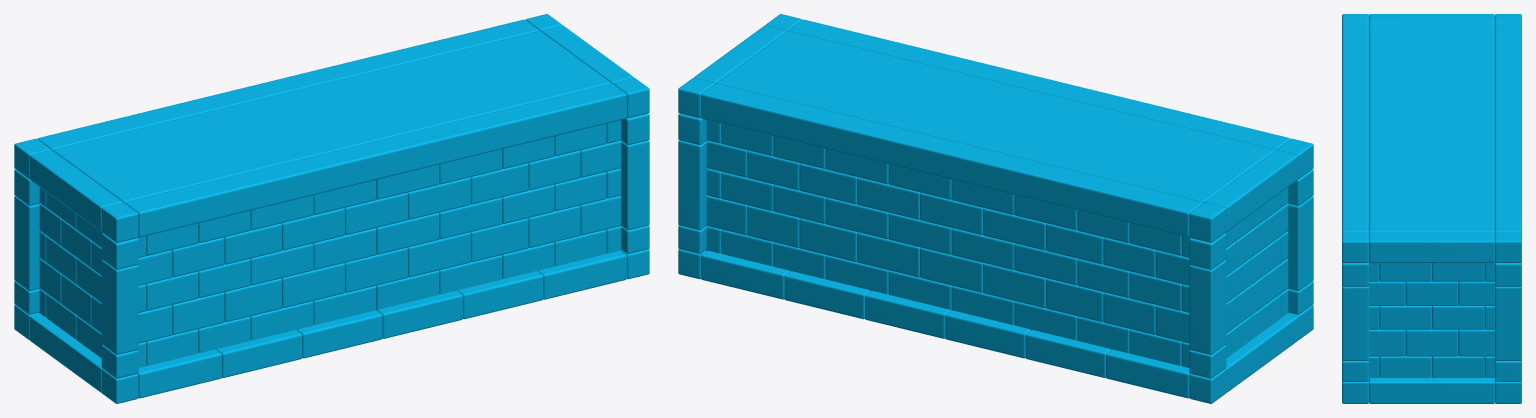
Rendered from SM_Stone_Body_05.fbx.
3 views of the same model, side by side, from view 1: azimuth 30°, elevation 25°; view 2: azimuth 150°, elevation 25°; view 3: azimuth 270°, elevation 25° (orthographic). The views are drawn at different scales.
Visible parts, largest first — view 1: SM_Stone_Body_05; view 2: SM_Stone_Body_05; view 3: SM_Stone_Body_05.
Boxes of the visible parts, x1,y1,x2,y2 form: SM_Stone_Body_05: (14,14,649,403); SM_Stone_Body_05: (678,14,1313,403); SM_Stone_Body_05: (1342,14,1521,403).
Bounding box in the file's own units: 7.5 × 2.5 × 2.5.
